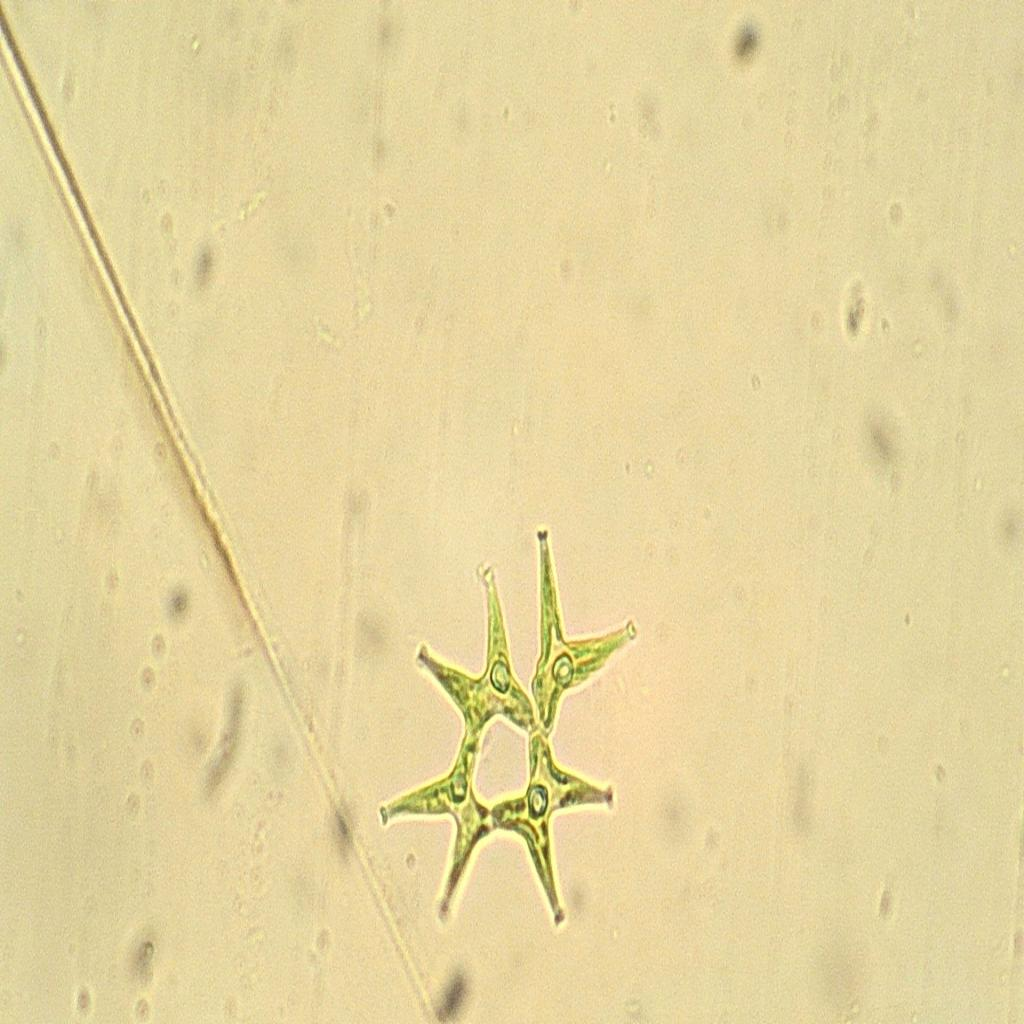Pediastrum_75FI: (373, 514, 643, 959)
